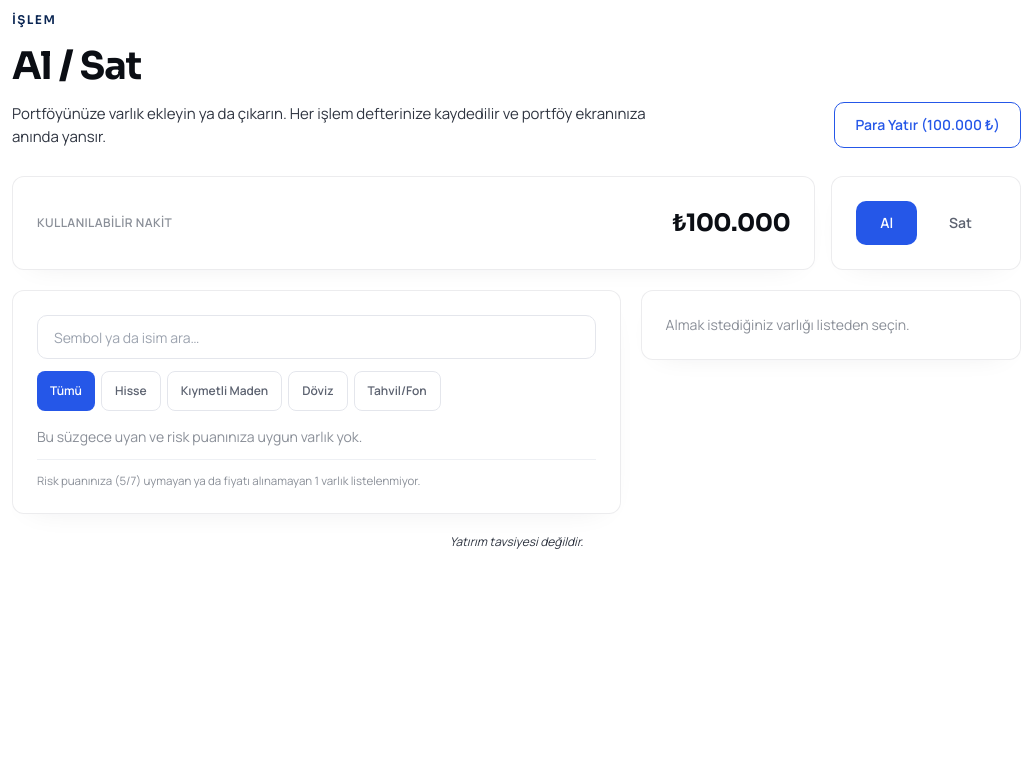
Test: TradePage › SAT sekmesinde kilit uygulanmaz
Click the button "Sat" at (961, 223), box top-left (925, 201), bottom-right (996, 245)
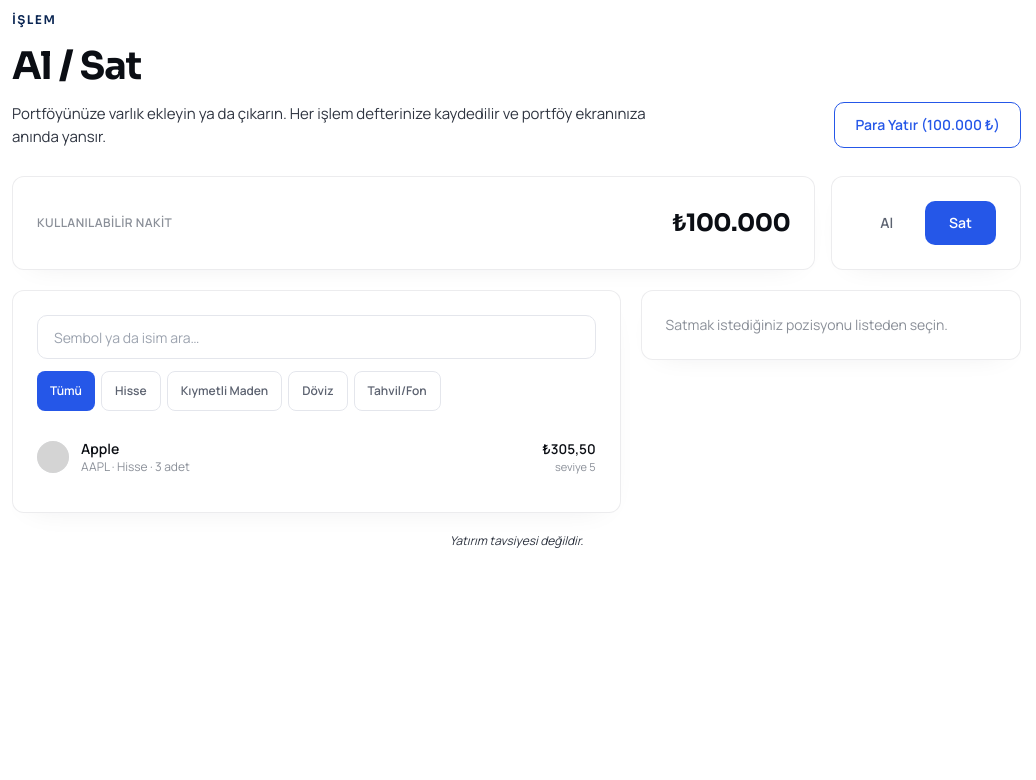
Check: the button "Apple AAPL · Hisse · 3 adet ₺305,50 seviye 5" is enabled, box top-left (37, 427), bottom-right (596, 488)
